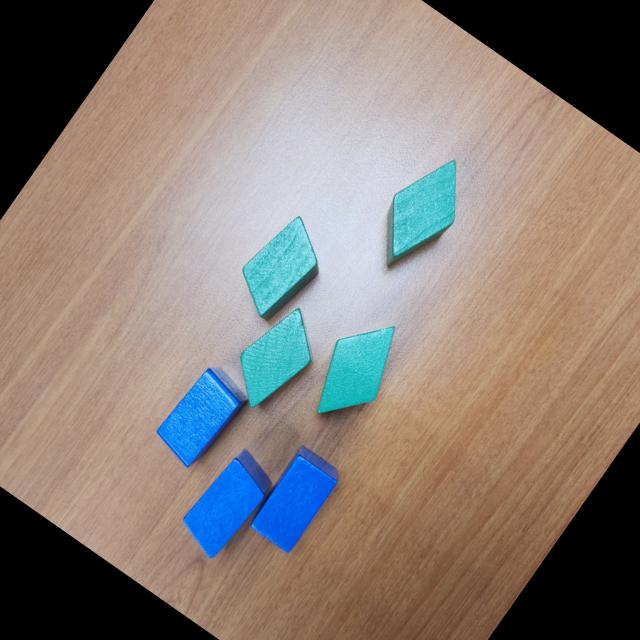blue: (172, 441, 282, 564), (148, 356, 254, 474), (244, 444, 345, 556)
green: (356, 142, 484, 284), (296, 304, 416, 436), (218, 294, 333, 422), (223, 206, 338, 330)
